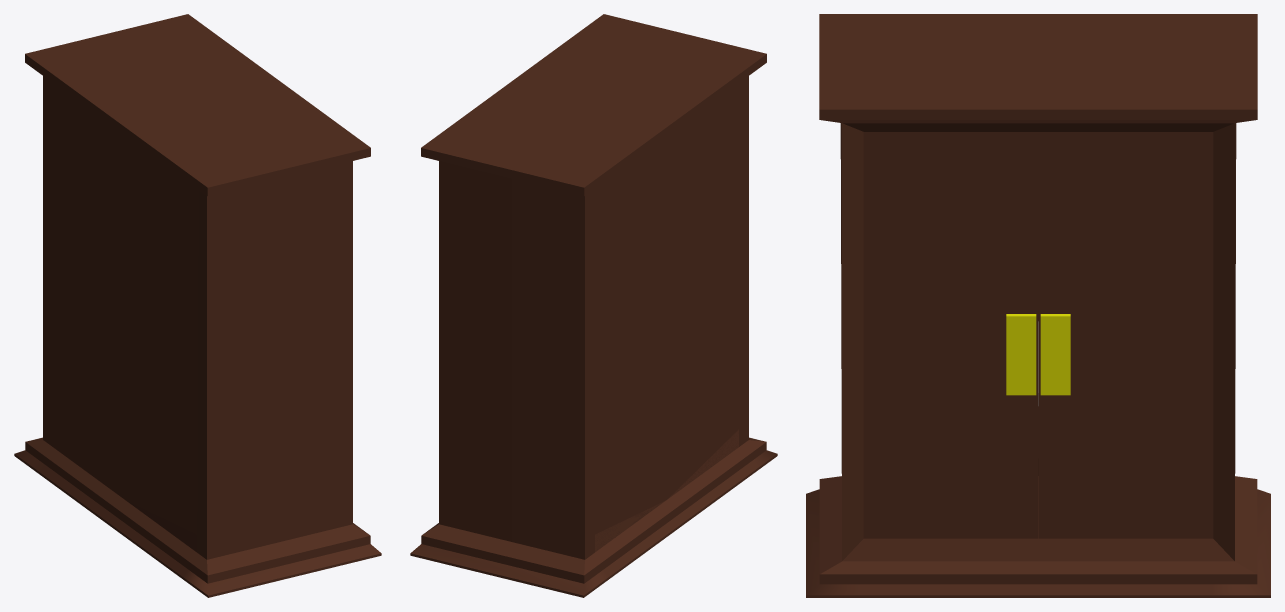
Rendered from Armario.fbx.
3 views of the same model, side by side, from view 1: azimuth 30°, elevation 25°; view 2: azimuth 150°, elevation 25°; view 3: azimuth 270°, elevation 25° (orthographic). The views are drawn at different scales.
Visible parts, largest first — view 1: Armario; view 2: Armario; view 3: Armario, Puerta1, Puerta.
Part boxes in pixels (box(x1,y1,x2,y2)): Armario: box(14, 14, 381, 597); Armario: box(410, 14, 777, 597); Armario: box(806, 14, 1270, 597); Puerta1: box(1038, 132, 1213, 538); Puerta: box(863, 132, 1038, 538).
Bounding box in the file's own units: 2.34 × 5.22 × 4.53.
